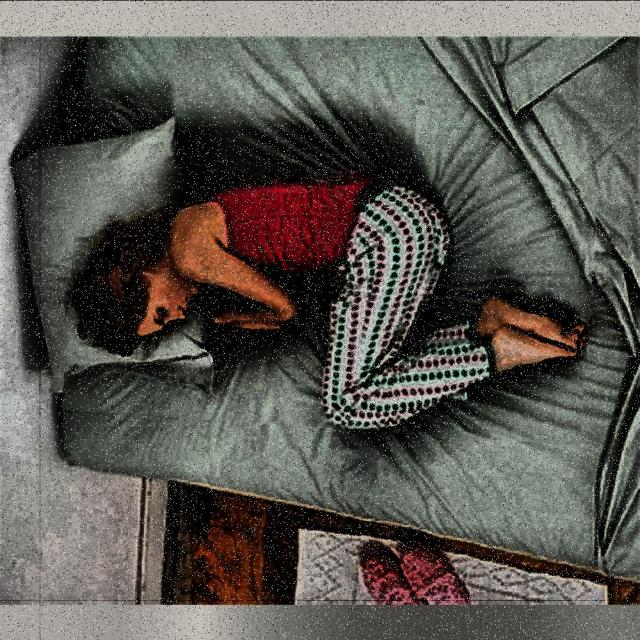Not_Supine: (70, 177, 588, 429)
